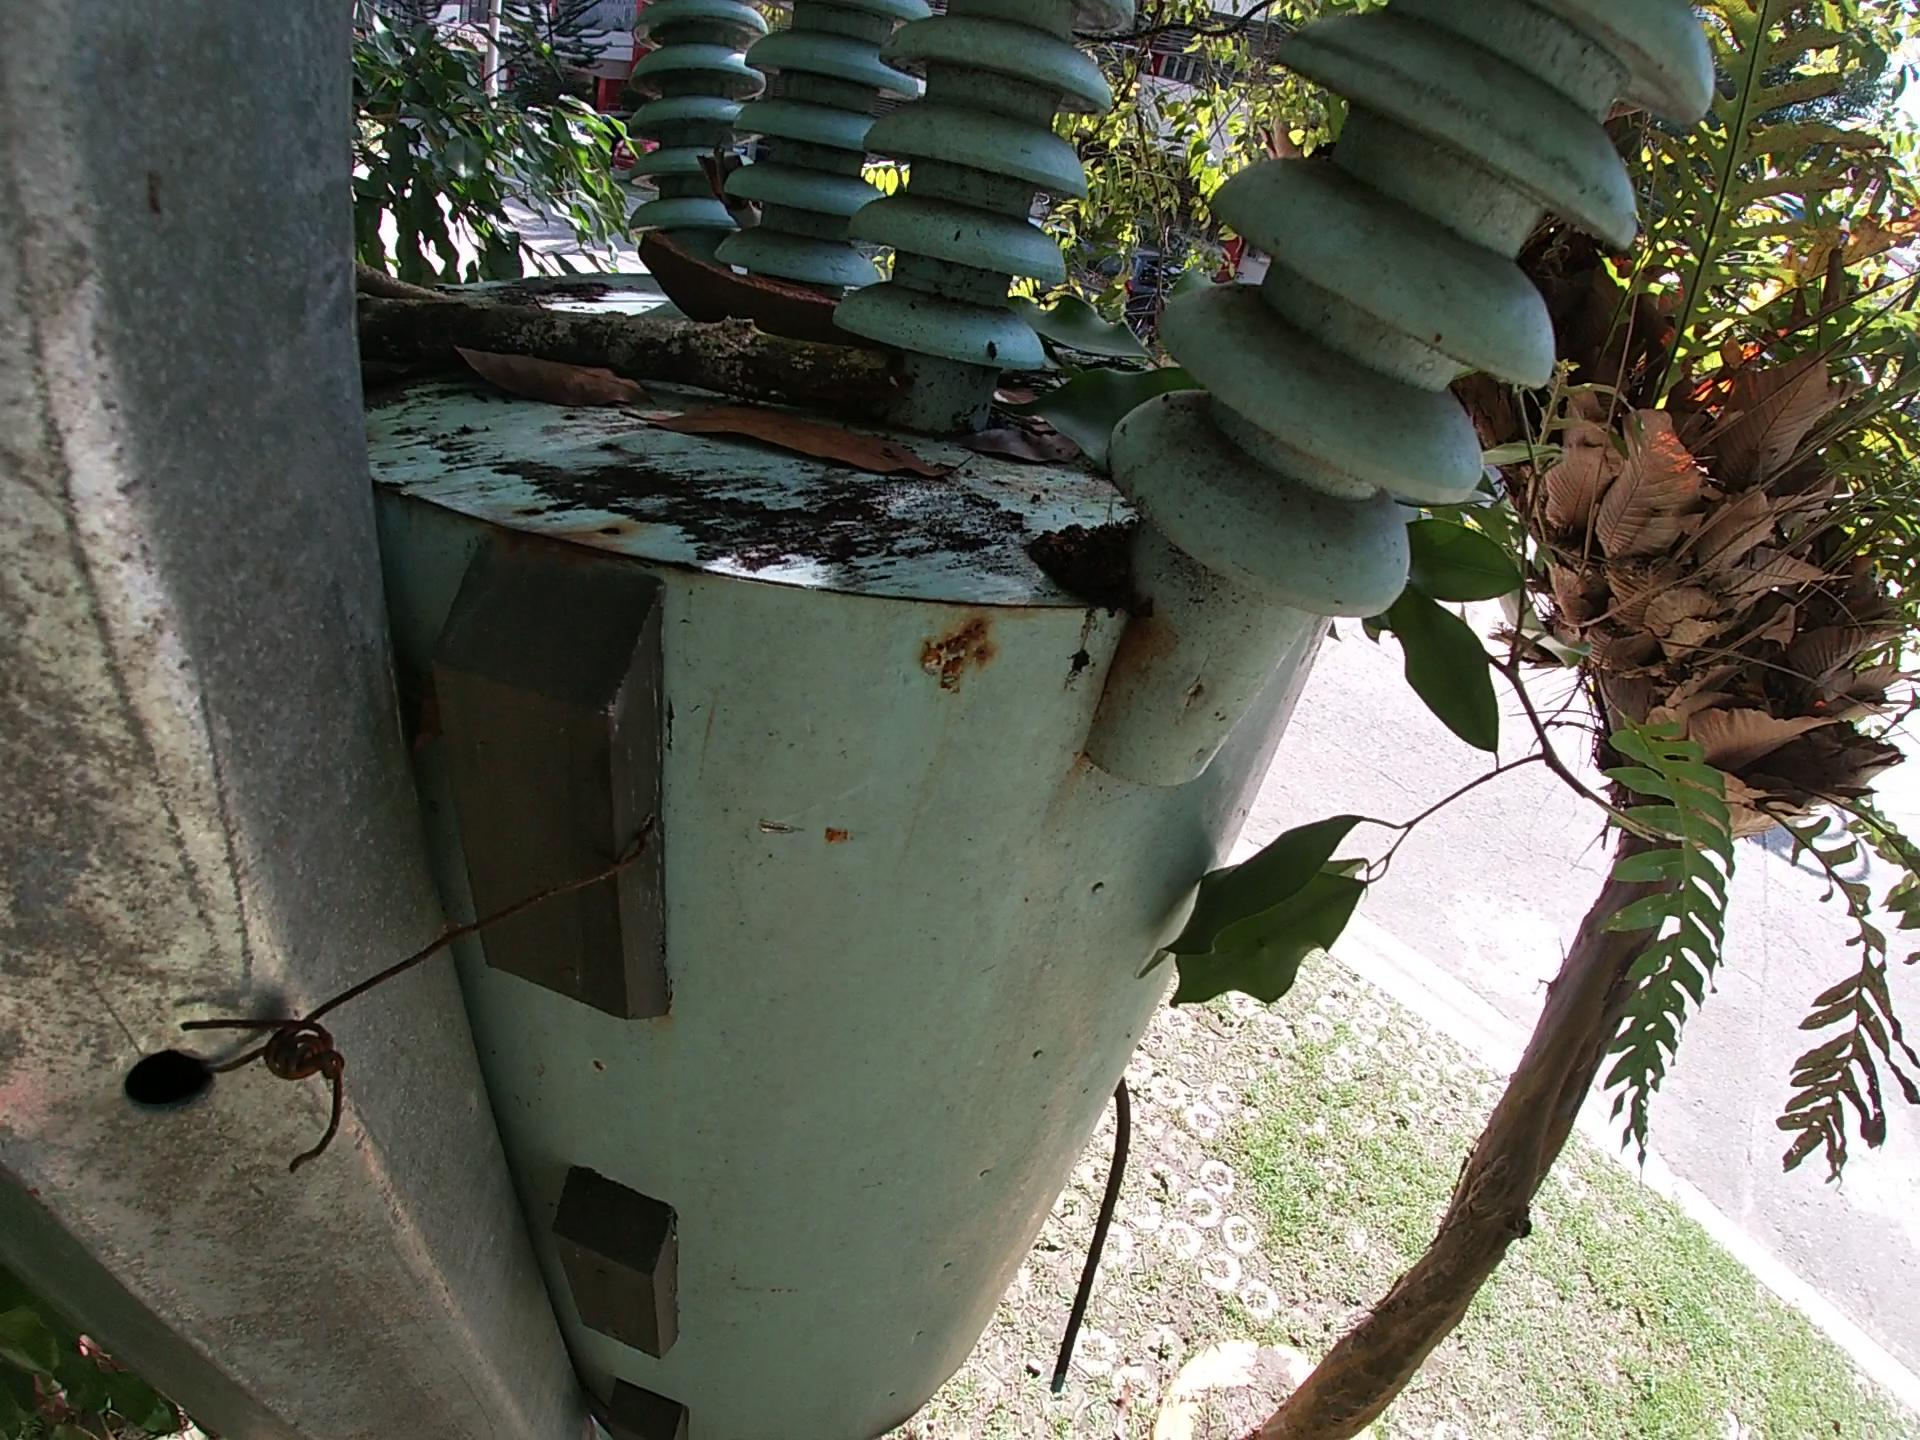branch with leaves: (1132, 213, 1671, 1044)
leaf: (457, 348, 968, 493)
mahogany fruit: (626, 224, 897, 337)
tree branch: (327, 245, 912, 437)
